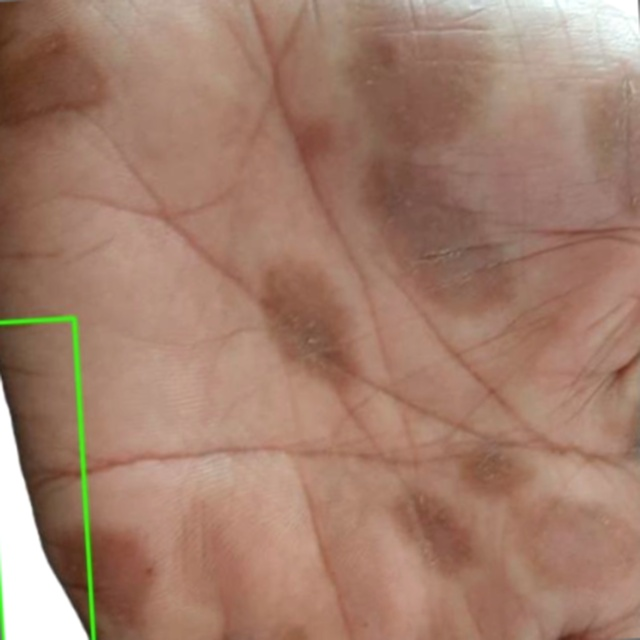Contact Dermatitis: (0, 318, 93, 639)
